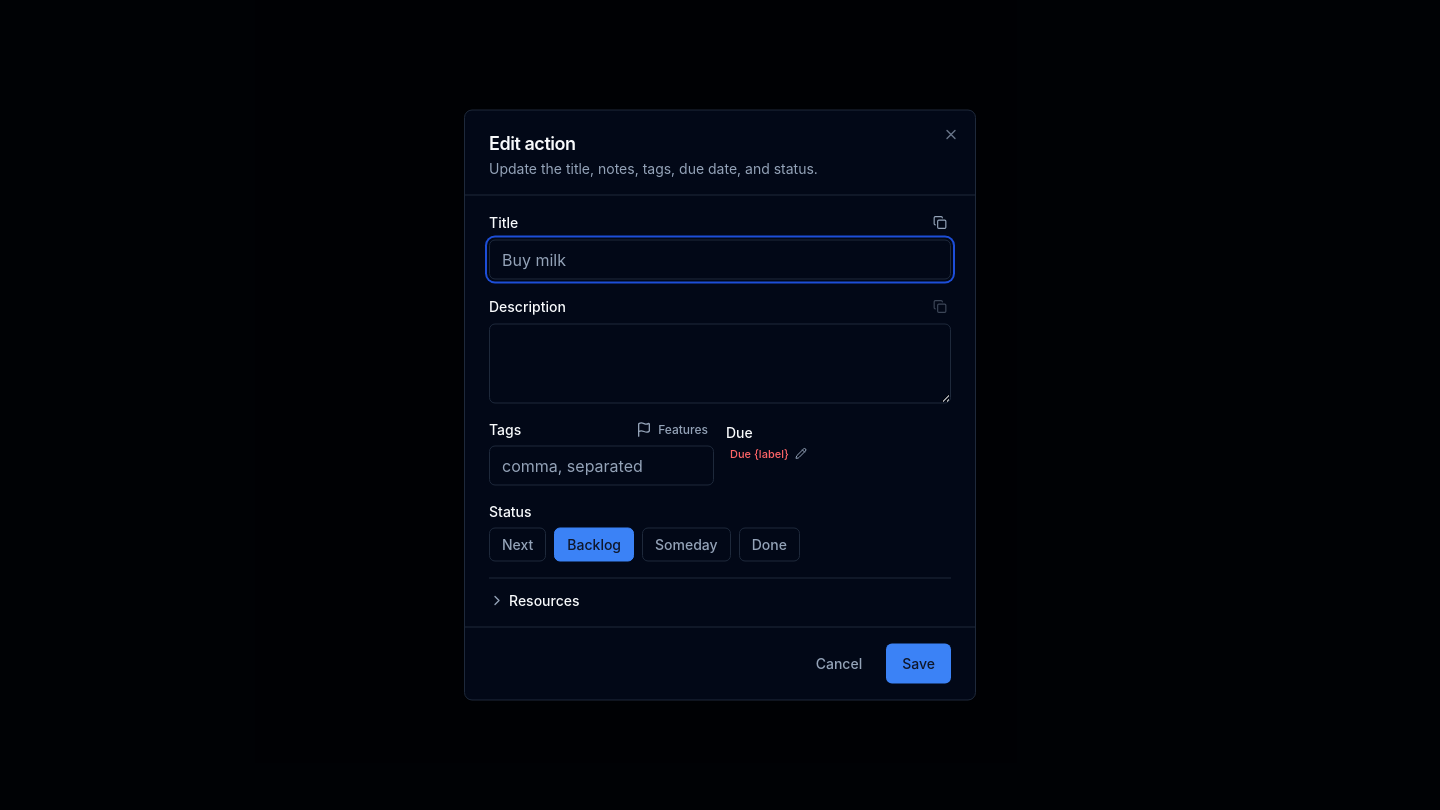
Test: ActionDialog › hides the time/range extras behind a toggle by default (#559)
Click the button "Due {label}" at (768, 454), box top-left (726, 444), bottom-right (811, 464)
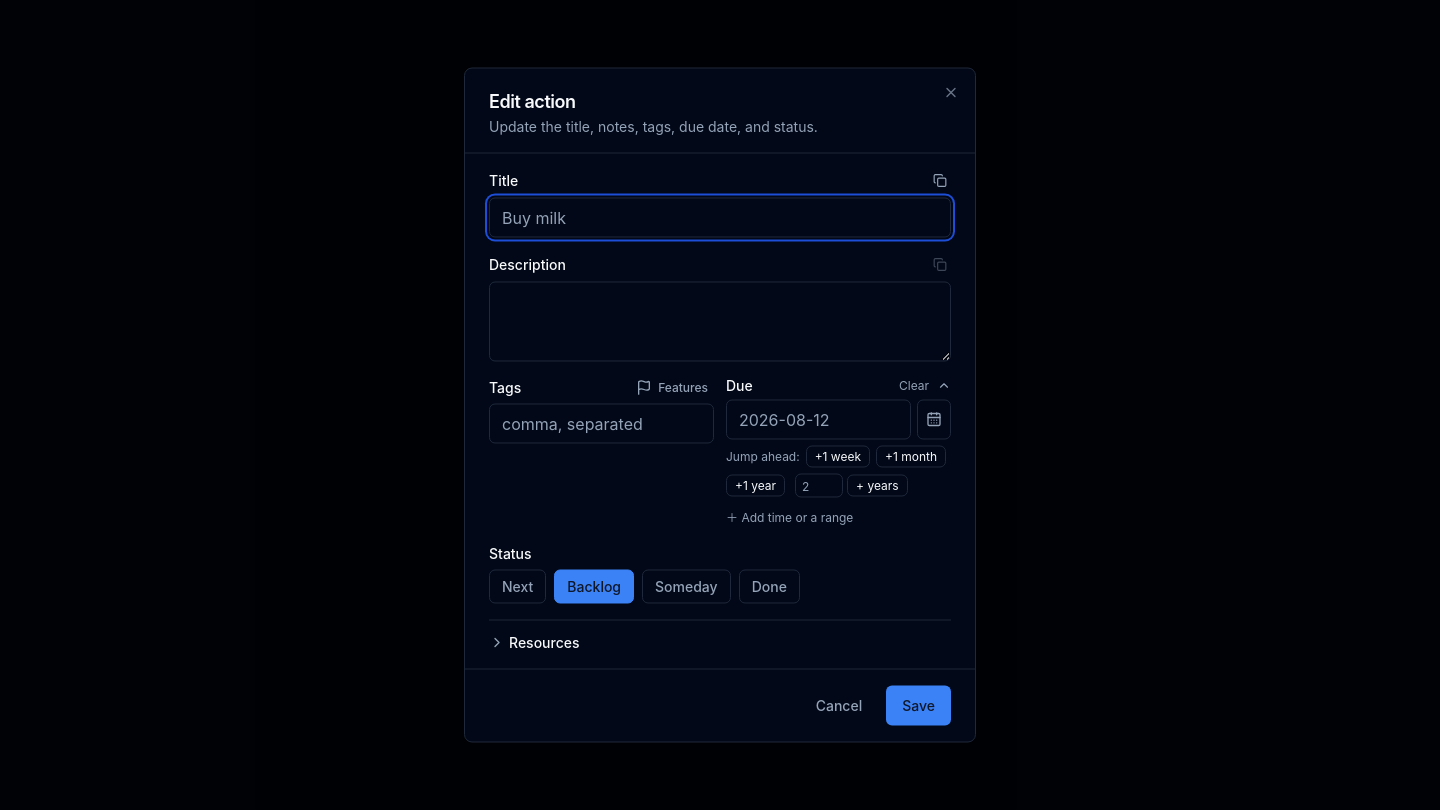
Click the button "＋ Add time or a range" at (790, 518), box top-left (726, 510), bottom-right (853, 526)
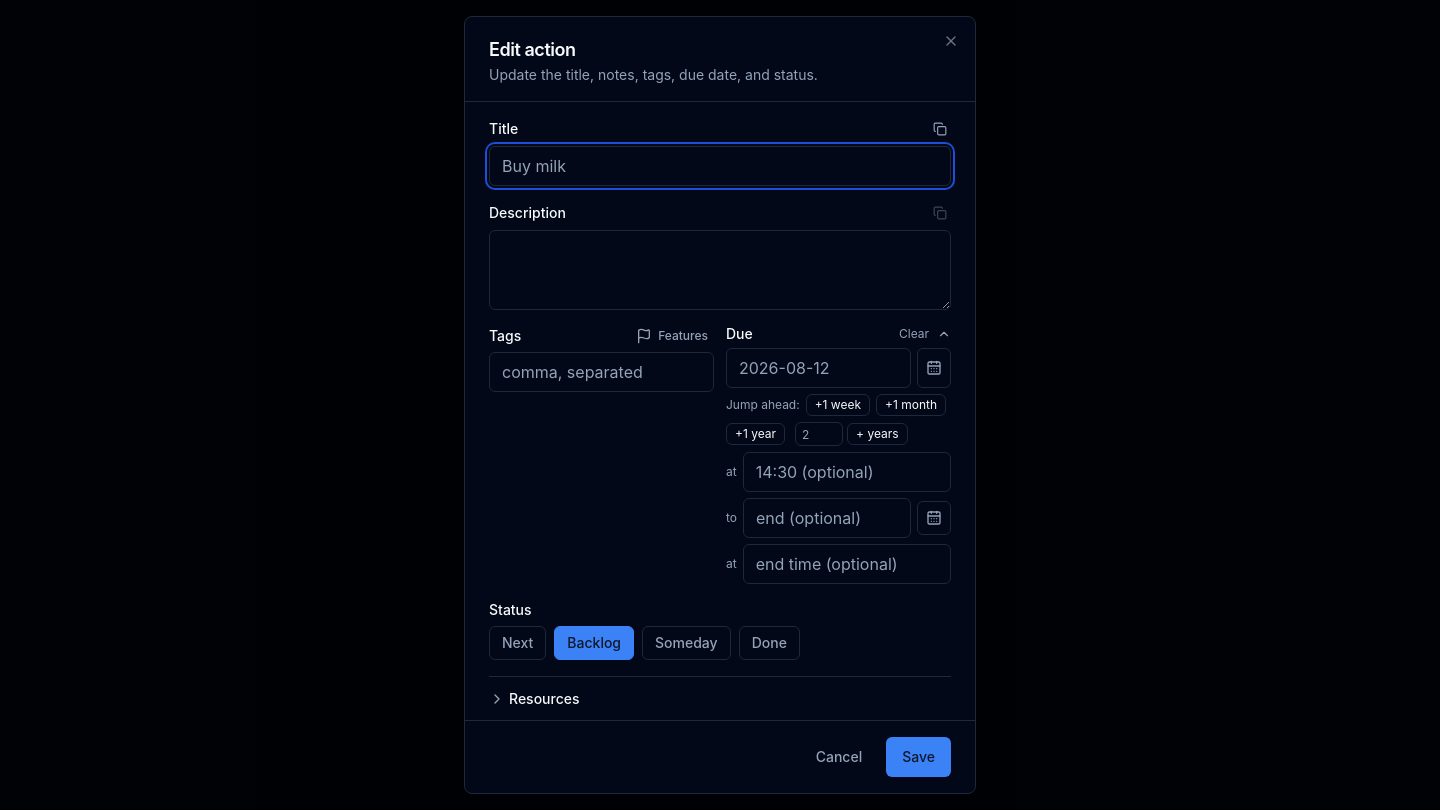
Expected: the field named "Due end (optional)" is shown, top-left (743, 498), bottom-right (911, 538)
Expected: the field named "Due time (optional)" is shown, top-left (743, 452), bottom-right (951, 492)
